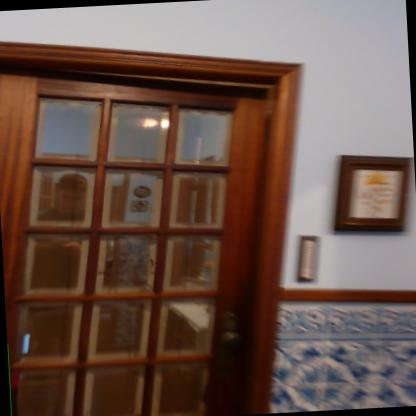closed: (0, 48, 336, 415)
